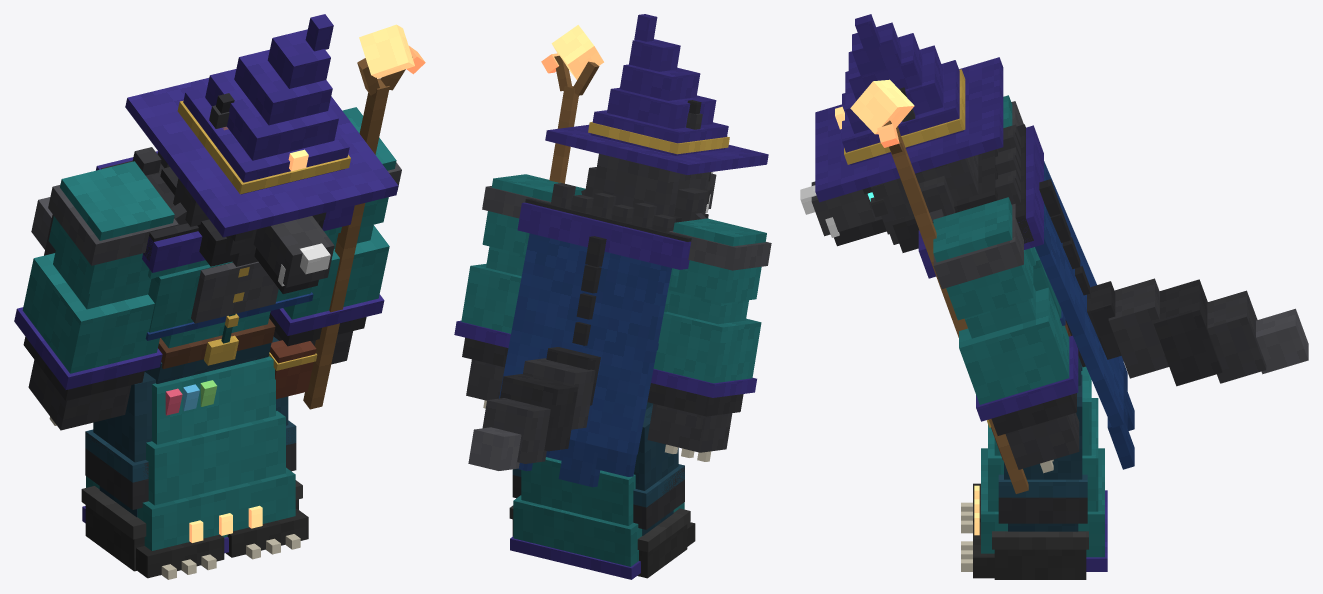
The model's file is lycan_mage.glb.
3 renders of one model, left to right at view 1: azimuth 30°, elevation 25°; view 2: azimuth 150°, elevation 25°; view 3: azimuth 270°, elevation 25°, orthographic. The views are drawn at different scales.
Parts seen in each view (by area): view 1: Head, ArmR, Root, Torso, LegR, ArmL, HandL, LegL; view 2: Torso, ArmR, Head, Root, ArmL, LegR, HandL; view 3: Torso, Head, ArmL, LegL, Root, HandL.
Part boxes in pixels (x1,y1,x2,y2): Head: (125, 14, 398, 293); ArmR: (14, 161, 180, 430); Root: (82, 356, 300, 579); Torso: (31, 147, 354, 415); LegR: (81, 372, 224, 578); ArmL: (269, 107, 401, 364); HandL: (303, 24, 425, 409); LegL: (225, 336, 308, 557); Torso: (468, 183, 691, 487); ArmR: (647, 218, 771, 461); Head: (545, 14, 768, 222); Root: (510, 457, 684, 579); ArmL: (454, 174, 585, 408); LegR: (633, 405, 695, 578); HandL: (541, 25, 603, 183); Torso: (918, 124, 1308, 469); Head: (800, 14, 1003, 252); ArmL: (933, 197, 1079, 473); LegL: (973, 374, 1088, 579); Root: (961, 366, 1107, 571); HandL: (850, 79, 1028, 493).
Size of the model in its own units: 1.27 by 2.22 by 1.89.
Materials: 43 (43 with a texture image).
